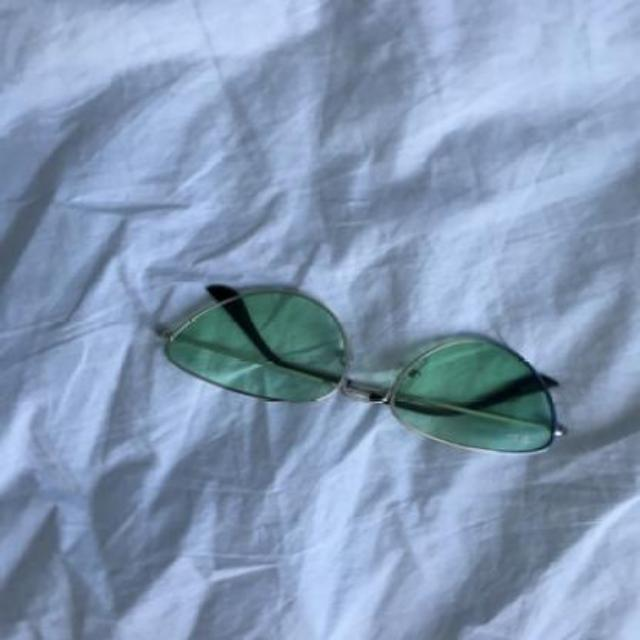glasses: (156, 280, 568, 456)
